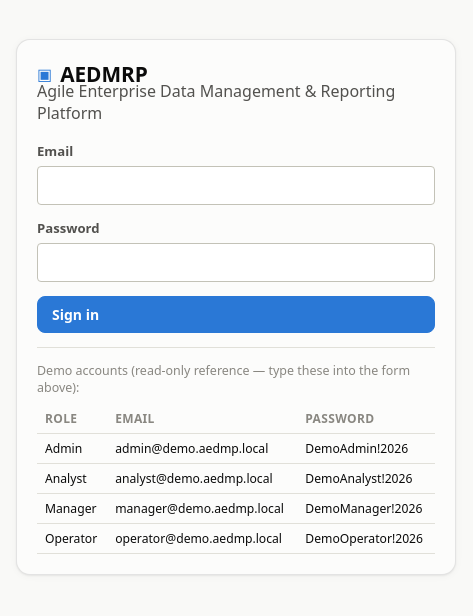
Scenario: LoginPage › shows required-field errors when submitting an empty form
Step 1. Click the button "Sign in" → {"x": 76, "y": 314}, box [37,296,435,333]
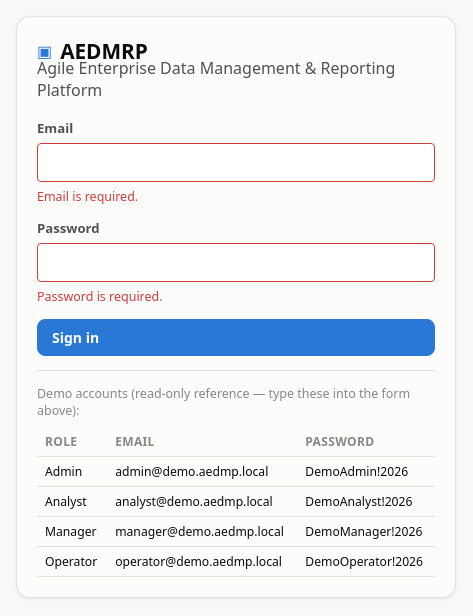
expect the text "Email is required." is shown: met, box [37,188,138,205]
expect the text "Password is required." is shown: met, box [37,288,162,305]
